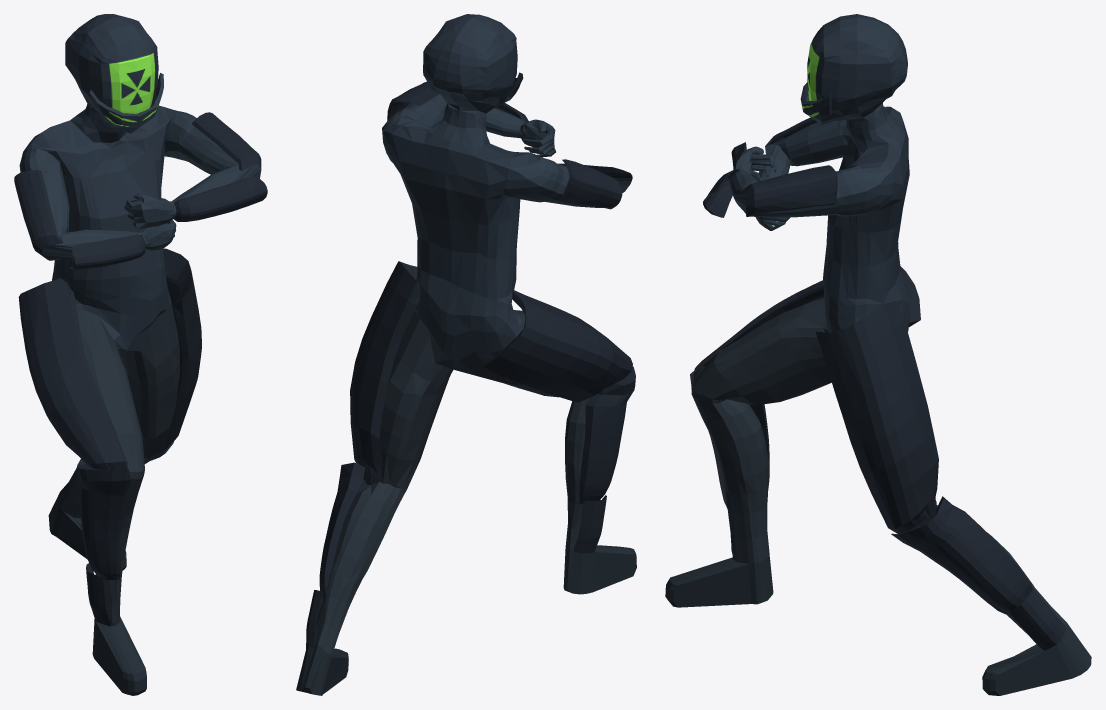
File: Bastion_WL_000008.obj
3 renders of one model, left to right at view 1: azimuth 30°, elevation 25°; view 2: azimuth 150°, elevation 25°; view 3: azimuth 270°, elevation 25°, orthographic. The views are drawn at different scales.
Parts seen in each view (by area): view 1: Cube.002; view 2: Cube.002; view 3: Cube.002.
Part boxes in pixels (x1,y1,x2,y2): Cube.002: (14, 14, 267, 695); Cube.002: (296, 14, 636, 695); Cube.002: (665, 14, 1091, 695).
Size of the model in its own units: 1.3 by 3.56 by 2.15.
